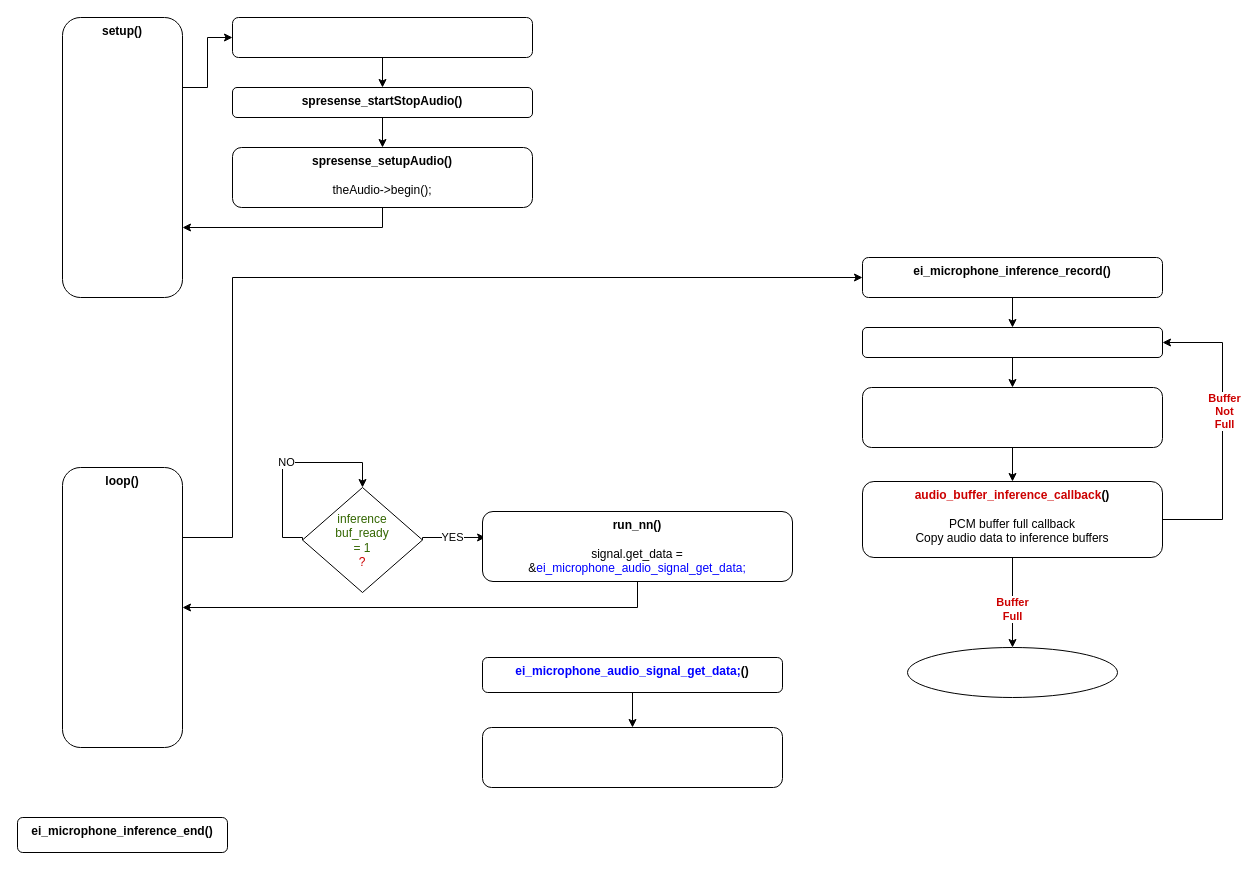
The diagram is 1257 pixels wide and 870 high, and some of its shapes have lost their labels. The shapes that lost their labels are listed below. From the top down, each one's centre as x and y in pixels, then its label:
pixel 382 37: ei_microphone_inference_start()
pixel 1012 342: get_dsp_data( & audio_buffer_inference_callback );
pixel 1012 417: spresense_getAudio() theAudio->readFrames
pixel 1012 672: inference.buf_ready = 1
pixel 632 757: arm_q15_to_float() Copy inference buffers to a float array
